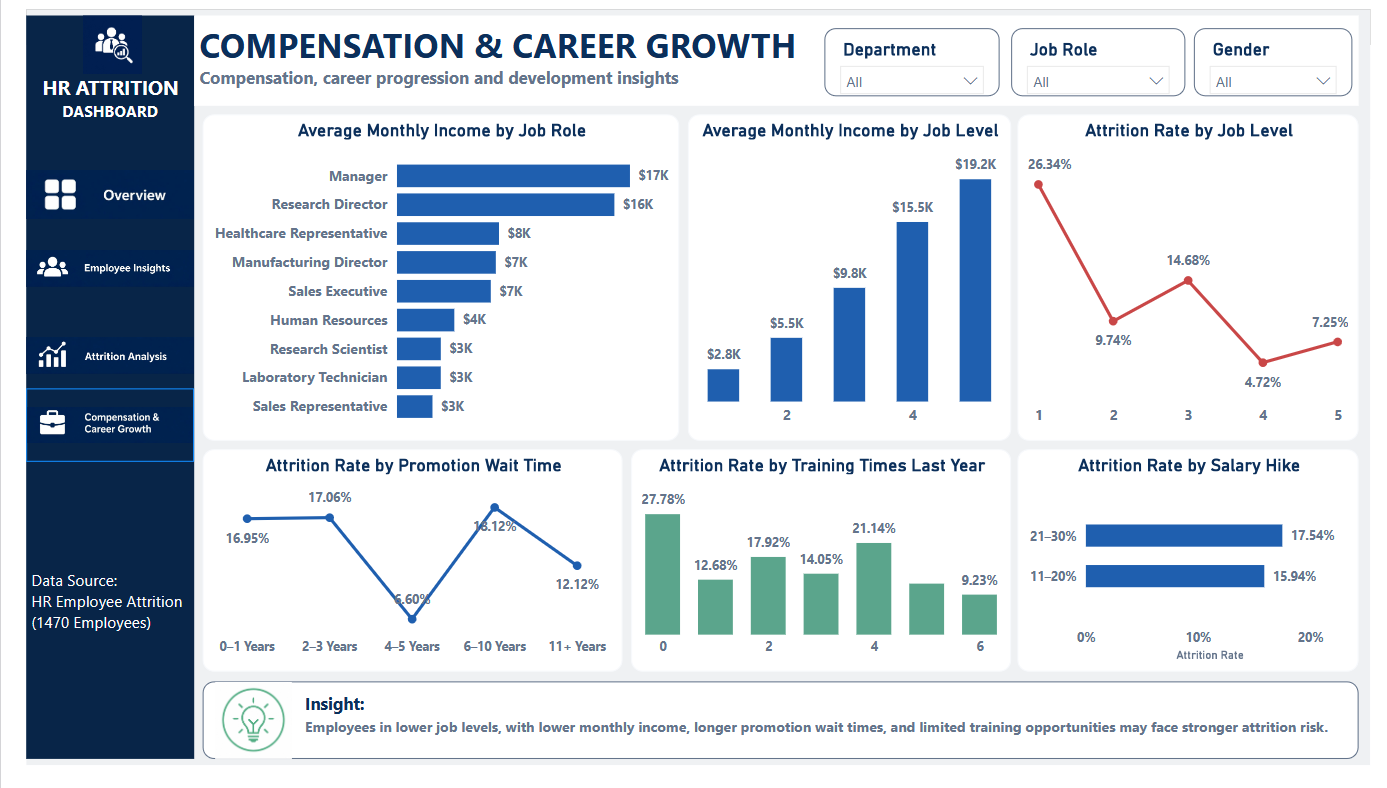

This screenshot's page, from the dashboard's own definition file:
{"tool":"powerbi","page":{"name":"Compensation & Career Growth","canvas":[1280,720],"ordinal":3},"visuals":[{"type":"textbox","box":[0,6.5,160.3,707.6],"z":0},{"type":"textbox","box":[160.3,6.5,1109.2,85.8],"z":1000},{"type":"clusteredBarChart","title":"Average Monthly Income by Job Role","fields":{"Category":["HR Attrition.job_role"],"Y":["HR Attrition.Avg Monthly Income"]},"box":[168.4,100.4,453.4,310.9],"z":2000},{"type":"clusteredColumnChart","title":"Average Monthly Income by Job Level","fields":{"Category":["HR Attrition.job_level"],"Y":["HR Attrition.Avg Monthly Income"]},"box":[629.9,100.4,307.7,310.9],"z":3000},{"type":"slicer","fields":{"Values":["HR Attrition.job_role"]},"box":[937.5,17.8,166.8,64.8],"z":5000},{"type":"image","box":[0,215.4,160.3,63.1],"z":6000},{"type":"image","box":[0,299.6,160.3,59.9],"z":7000},{"type":"image","box":[0,361.1,160.3,69.6],"z":8000},{"type":"image","box":[0,137.6,160.3,77.7],"z":9000},{"type":"image","box":[14.6,6.5,134.4,55.1],"z":10000},{"type":"textbox","box":[0,527.9,160.3,103.6],"z":11000},{"type":"slicer","fields":{"Values":["HR Attrition.gender"]},"box":[1112.4,17.8,150.6,64.8],"z":12000},{"type":"slicer","fields":{"Values":["HR Attrition.department"]},"box":[760.3,17.8,166.8,64.8],"z":13000},{"type":"textbox","box":[168.4,639.6,1101.1,74.5],"z":16000},{"type":"image","box":[179.7,639.6,72.9,74.5],"z":17000},{"type":"lineChart","title":"Attrition Rate by Job Level","fields":{"Category":["HR Attrition.job_level"],"Y":["HR Attrition.Attrition Rate"]},"box":[944,100.4,325.5,310.9],"z":18000},{"type":"lineChart","title":"Attrition Rate by Promotion Wait Time","fields":{"Y":["HR Attrition.Attrition Rate"],"Category":["HR Attrition.Promotion Wait Group"]},"box":[168.4,419.4,399.9,212.1],"z":18001},{"type":"clusteredColumnChart","title":"Attrition Rate by Training Times Last Year","fields":{"Category":["HR Attrition.training_times_last_year"],"Y":["HR Attrition.Attrition Rate"]},"box":[576.4,419.4,361.1,212.1],"z":18002},{"type":"clusteredBarChart","title":"Attrition Rate by Salary Hike","fields":{"Category":["HR Attrition.Salary Hike Group"],"Y":["HR Attrition.Attrition Rate"]},"box":[944,419.4,325.5,212.1],"z":18003}]}

Visuals, with their boxes in screenshot pixels (x1, y1, x2, y2), scaled from the page's 1280x720 canvas onto the 1387x788 screenshot:
textbox: <box>0,7,174,782</box>
textbox: <box>174,7,1376,101</box>
"Average Monthly Income by Job Role" clusteredBarChart: <box>182,110,674,450</box>
"Average Monthly Income by Job Level" clusteredColumnChart: <box>683,110,1016,450</box>
slicer - HR Attrition.job_role: <box>1016,19,1197,90</box>
image: <box>0,236,174,305</box>
image: <box>0,328,174,393</box>
image: <box>0,395,174,471</box>
image: <box>0,151,174,236</box>
image: <box>16,7,161,67</box>
textbox: <box>0,578,174,691</box>
slicer - HR Attrition.gender: <box>1205,19,1369,90</box>
slicer - HR Attrition.department: <box>824,19,1005,90</box>
textbox: <box>182,700,1376,782</box>
image: <box>195,700,274,782</box>
"Attrition Rate by Job Level" lineChart: <box>1023,110,1376,450</box>
"Attrition Rate by Promotion Wait Time" lineChart: <box>182,459,616,691</box>
"Attrition Rate by Training Times Last Year" clusteredColumnChart: <box>625,459,1016,691</box>
"Attrition Rate by Salary Hike" clusteredBarChart: <box>1023,459,1376,691</box>
